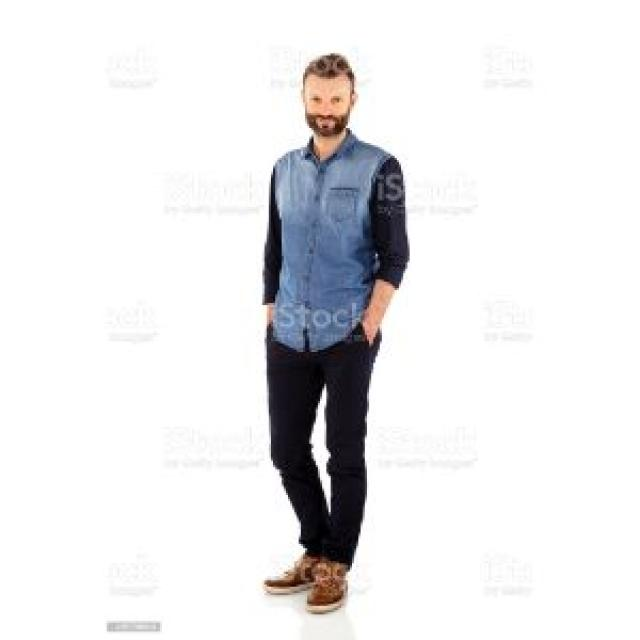adult: (224, 32, 422, 629)
